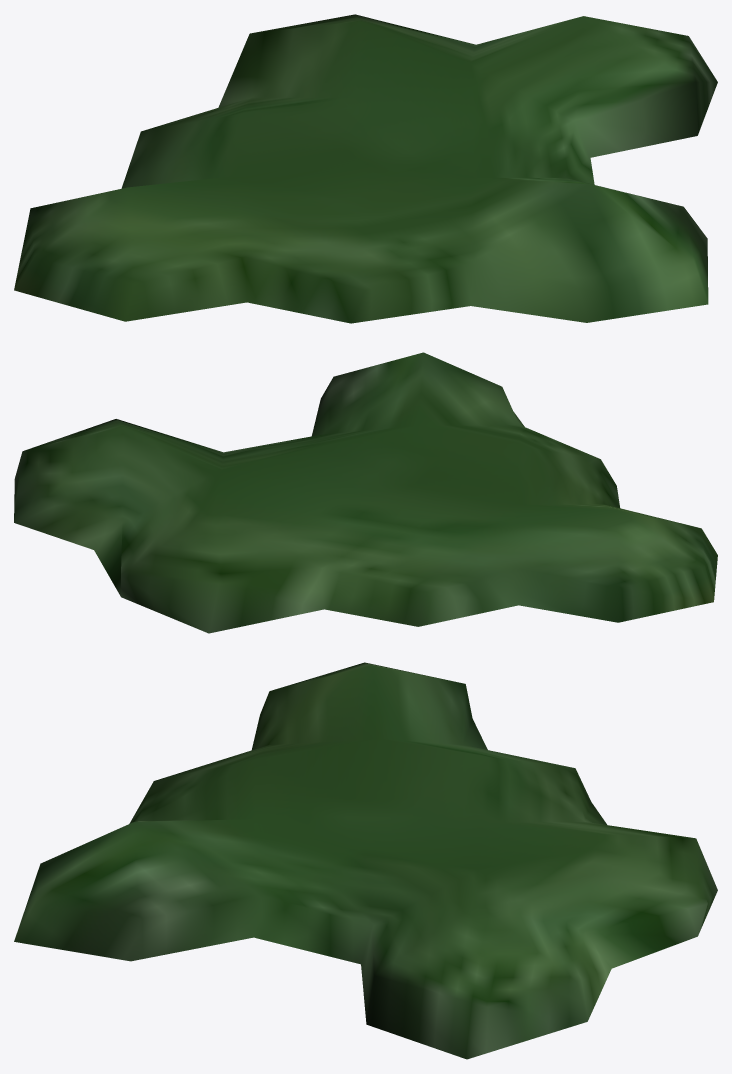
The model's file is ITPL_STRENGTH_HERB_01.glb.
3 renders of one model, top to bottom at view 1: azimuth 30°, elevation 25°; view 2: azimuth 150°, elevation 25°; view 3: azimuth 270°, elevation 25°, orthographic. The views are drawn at different scales.
Visible parts, largest first — view 1: Mesh; view 2: Mesh; view 3: Mesh.
Part boxes in pixels (box(x1,y1,x2,y2)): Mesh: box(14, 14, 717, 323); Mesh: box(14, 352, 717, 633); Mesh: box(14, 662, 717, 1059).
Bounding box in the file's own units: 0.6679 × 0.0798 × 0.5462.
Materials: 1 (1 with a texture image).
